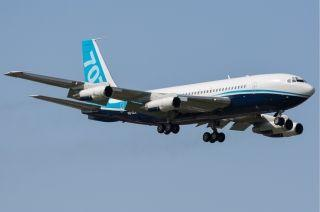airplane: (5, 38, 318, 142)
